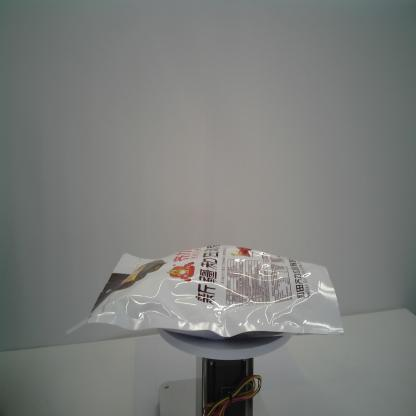Dried Food: (65, 244, 344, 341)
